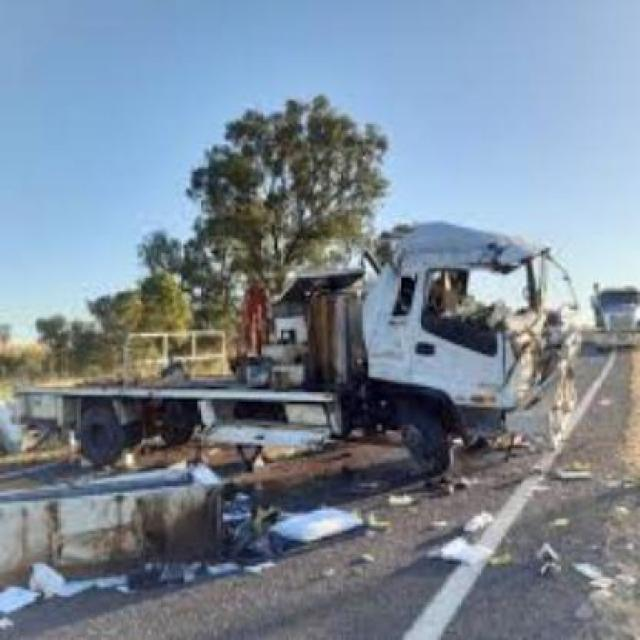accident: (12, 198, 590, 500)
